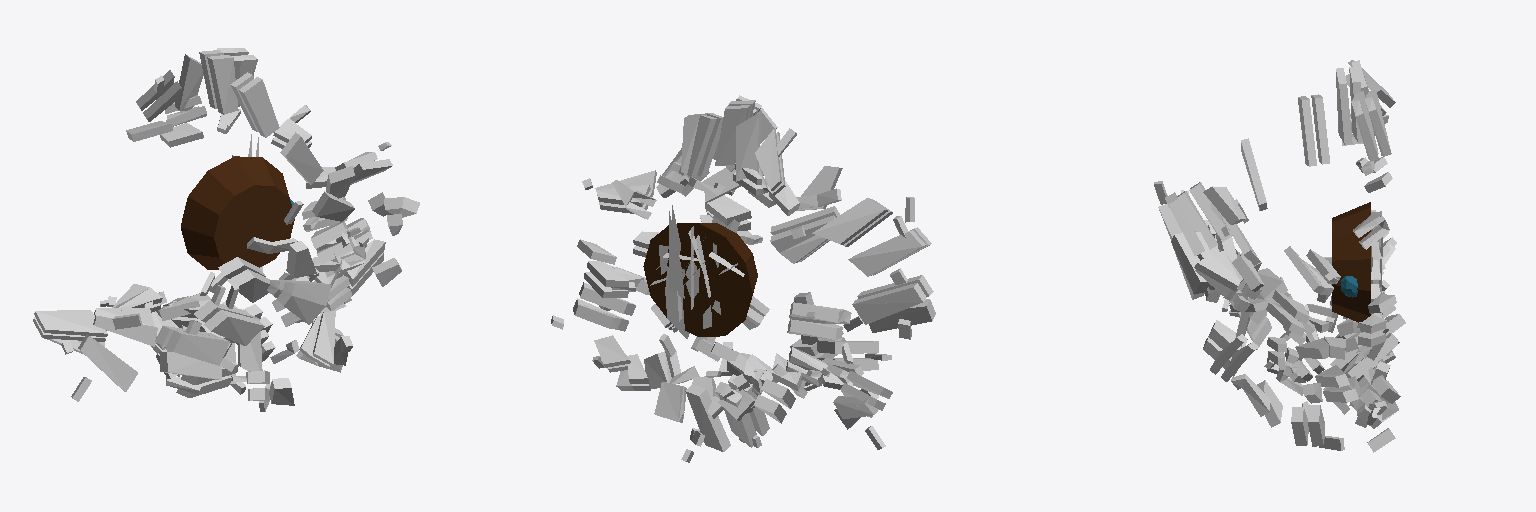
3 views of the same model, side by side, from view 1: azimuth 30°, elevation 25°; view 2: azimuth 150°, elevation 25°; view 3: azimuth 270°, elevation 25° (orthographic).
Parts seen in each view (by area): view 1: Cone.001_Cone.001_cover, Cone_Cone_cover, Cylinder_Cylinder_Material.001; view 2: Cone_Cone_cover, Cone.001_Cone.001_cover, Cylinder_Cylinder_Material.001, Plane_Plane_Material.003; view 3: Cone_Cone_cover, Cone.001_Cone.001_cover, Cylinder_Cylinder_Material.001, Plane_Plane_Material.003.
Boxes of the visible parts, x1,y1,x2,y2 form: Cone.001_Cone.001_cover: [33, 48, 392, 401]; Cone_Cone_cover: [112, 166, 419, 411]; Cylinder_Cylinder_Material.001: [181, 156, 294, 269]; Cone_Cone_cover: [551, 148, 935, 462]; Cone.001_Cone.001_cover: [577, 95, 914, 449]; Cylinder_Cylinder_Material.001: [643, 223, 757, 336]; Plane_Plane_Material.003: [650, 205, 744, 338]; Cone_Cone_cover: [1158, 182, 1405, 452]; Cone.001_Cone.001_cover: [1154, 60, 1396, 414]; Cylinder_Cylinder_Material.001: [1332, 202, 1370, 322]; Plane_Plane_Material.003: [1371, 210, 1383, 314].
Size of the model in its own units: 3.42 by 3.51 by 2.23.
4 materials, 1 textured.